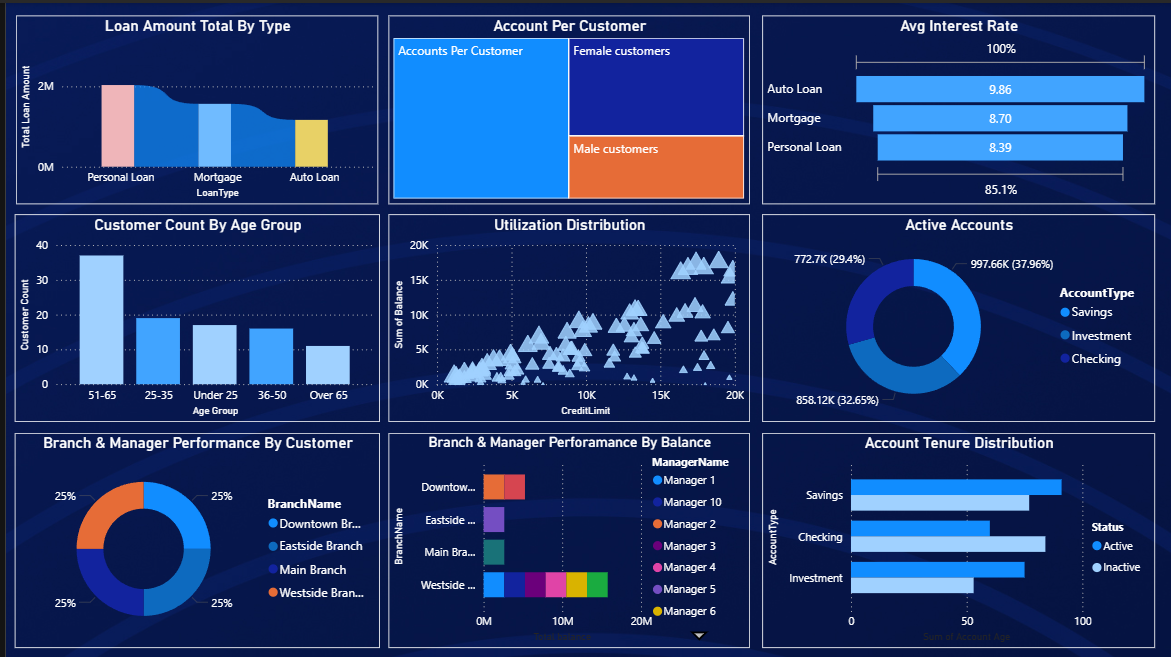

What the dashboard file says about the page in this screenshot:
{"tool":"powerbi","page":{"name":"Page 2","canvas":[1280,720],"ordinal":1},"visuals":[{"type":"columnChart","title":"Customer Count By Age Group","fields":{"Category":["Customers.Age Group"],"Y":["Customers.Customer Count"]},"box":[9.6,231.9,400.7,227.8],"z":0},{"type":"scatterChart","title":"Utilization Distribution","fields":{"Y":["CreditCards.Balance"],"X":["CreditCards.CreditLimit"],"Size":["CreditCards.Credit Utilization"]},"box":[419.9,231.9,396.6,227.8],"z":1000},{"type":"donutChart","title":"Branch & Manager Performance By Customer","fields":{"Y":["Customers.Customer Count"],"Category":["Branches.BranchName","Branches.ManagerName"]},"box":[9.6,472,400.7,236],"z":2000},{"type":"barChart","title":"Branch & Manager Perforamance By Balance","fields":{"Category":["Branches.BranchName"],"Y":["Accounts.Total balance"],"Series":["Branches.ManagerName"]},"box":[419.9,472,396.6,236],"z":3000},{"type":"clusteredBarChart","title":"Account Tenure Distribution","fields":{"Category":["Accounts.AccountType"],"Y":["Accounts.Account Age"],"Series":["Accounts.Status"]},"box":[830.2,472,430.9,236],"z":4000},{"type":"ribbonChart","title":"Loan Amount Total By Type","fields":{"Y":["Loans.Total Loan Amount"],"Category":["Loans.LoanType"]},"box":[11,13.7,397.9,207.2],"z":5000},{"type":"treemap","title":"Account Per Customer","fields":{"Values":["Accounts.Accounts Per Customer","Customers.Female customers","Customers.Male customers"]},"box":[419.9,13.7,396.6,207.2],"z":6000},{"type":"funnel","title":"Avg Interest Rate","fields":{"Category":["Loans.LoanType"],"Y":["Loans.Average Interest Rate"]},"box":[830.2,13.7,430.9,207.2],"z":7000},{"type":"donutChart","title":"Active  Accounts","fields":{"Category":["Accounts.AccountType"],"Y":["Accounts.Total balance"]},"box":[830.2,231.9,430.9,227.8],"z":8000}]}

Visuals, with their boxes in screenshot pixels (x1, y1, x2, y2), scaled from the page's 1280x720 canvas onto the 1171x657 screenshot:
"Customer Count By Age Group" columnChart: <box>9,212,375,419</box>
"Utilization Distribution" scatterChart: <box>384,212,747,419</box>
"Branch & Manager Performance By Customer" donutChart: <box>9,431,375,646</box>
"Branch & Manager Perforamance By Balance" barChart: <box>384,431,747,646</box>
"Account Tenure Distribution" clusteredBarChart: <box>760,431,1154,646</box>
"Loan Amount Total By Type" ribbonChart: <box>10,13,374,202</box>
"Account Per Customer" treemap: <box>384,13,747,202</box>
"Avg Interest Rate" funnel: <box>760,13,1154,202</box>
"Active  Accounts" donutChart: <box>760,212,1154,419</box>
